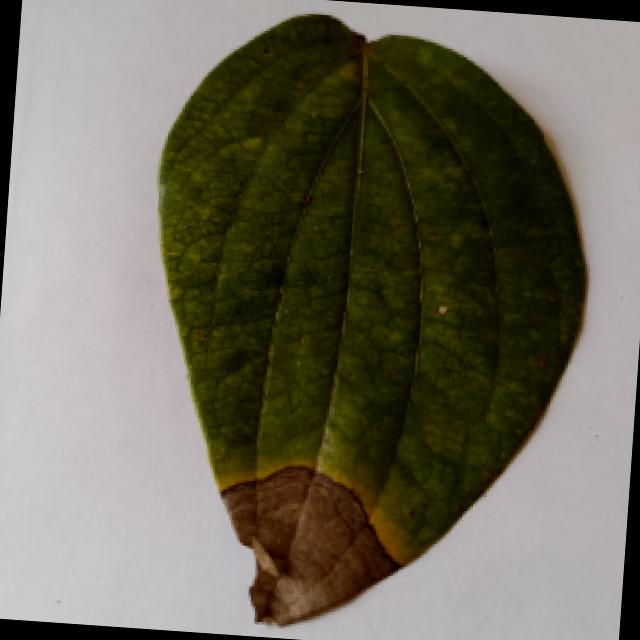footrot: (94, 22, 624, 640)
